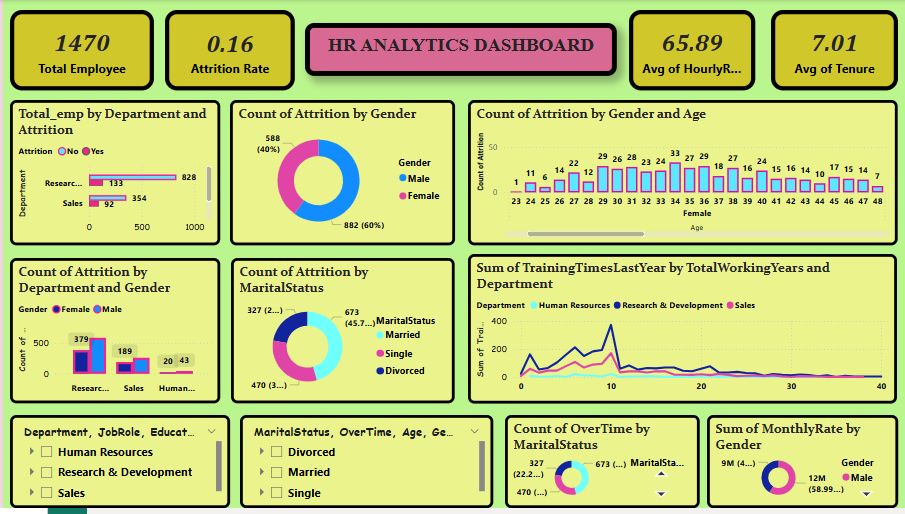

The dashboard page shown, as its layout file describes it:
{"tool":"powerbi","page":{"name":"Page 1","canvas":[1280,720],"ordinal":0},"visuals":[{"type":"textbox","box":[427.7,33.1,442.1,74.9],"z":0},{"type":"card","fields":{"Values":["HR_Anlaytics.Total_emp"]},"box":[10.1,14.4,204.5,113.8],"z":1000},{"type":"card","fields":{"Values":["HR_Anlaytics.Atribute rate(%)"]},"box":[229.8,13.8,184.4,114.2],"z":2000},{"type":"card","fields":{"Values":["HR_Anlaytics.avg_tenure"]},"box":[1088.6,14.4,180,113.8],"z":3000},{"type":"card","fields":{"Values":["Avg(HR_Anlaytics.HourlyRate)"]},"box":[887,14.4,178.6,113.8],"z":4000},{"type":"clusteredBarChart","fields":{"Category":["HR_Anlaytics.Department"],"Y":["HR_Anlaytics.Total_emp"],"Series":["HR_Anlaytics.Attrition"]},"box":[10.1,141.1,298.1,205.9],"z":5000},{"type":"clusteredColumnChart","fields":{"Y":["CountNonNull(HR_Anlaytics.Attrition)"],"Category":["HR_Anlaytics.Department"],"Series":["HR_Anlaytics.Gender"]},"box":[10.1,365.8,298.1,205.9],"z":6000},{"type":"donutChart","fields":{"Y":["CountNonNull(HR_Anlaytics.Attrition)"],"Category":["HR_Anlaytics.Gender"]},"box":[321.7,141.7,318.9,205.5],"z":7000},{"type":"donutChart","fields":{"Y":["CountNonNull(HR_Anlaytics.Attrition)"],"Category":["HR_Anlaytics.MaritalStatus","HR_Anlaytics.Gender"]},"box":[323.1,365.7,317.5,205.5],"z":8000},{"type":"columnChart","fields":{"Category":["HR_Anlaytics.Gender","HR_Anlaytics.Age"],"Y":["CountNonNull(HR_Anlaytics.Attrition)"]},"box":[659.5,141.1,609.1,205.9],"z":9000},{"type":"lineChart","fields":{"Category":["HR_Anlaytics.TotalWorkingYears"],"Y":["Sum(HR_Anlaytics.TrainingTimesLastYear)"],"Series":["HR_Anlaytics.Department"]},"box":[659.5,360,607.7,211.7],"z":10000},{"type":"donutChart","fields":{"Y":["CountNonNull(HR_Anlaytics.OverTime)"],"Category":["HR_Anlaytics.MaritalStatus"]},"box":[711.5,588.2,276.4,131.8],"z":11000},{"type":"donutChart","fields":{"Y":["Sum(HR_Anlaytics.MonthlyRate)"],"Category":["HR_Anlaytics.Gender"]},"box":[997.8,588.2,270.7,131.8],"z":12000},{"type":"slicer","fields":{"Values":["HR_Anlaytics.Department","HR_Anlaytics.JobRole","HR_Anlaytics.Education"]},"box":[9.9,588.2,311.8,131.8],"z":12001},{"type":"slicer","fields":{"Values":["HR_Anlaytics.MaritalStatus","HR_Anlaytics.OverTime","HR_Anlaytics.Age","HR_Anlaytics.Gender"]},"box":[335.9,588.2,358.6,131.8],"z":12002}]}

Visuals, with their boxes in screenshot pixels (x1, y1, x2, y2), scaled from the page's 1280x720 canvas onto the 905x514 screenshot:
textbox: (302,24,615,77)
card - HR_Anlaytics.Total_emp: (7,10,152,92)
card - HR_Anlaytics.Atribute rate(%): (162,10,293,91)
card - HR_Anlaytics.avg_tenure: (770,10,897,92)
card - Avg(HR_Anlaytics.HourlyRate): (627,10,753,92)
clusteredBarChart - HR_Anlaytics.Department x HR_Anlaytics.Total_emp: (7,101,218,248)
clusteredColumnChart - CountNonNull(HR_Anlaytics.Attrition) x HR_Anlaytics.Department: (7,261,218,408)
donutChart - CountNonNull(HR_Anlaytics.Attrition) x HR_Anlaytics.Gender: (227,101,453,248)
donutChart - CountNonNull(HR_Anlaytics.Attrition) x HR_Anlaytics.MaritalStatus: (228,261,453,408)
columnChart - HR_Anlaytics.Gender x HR_Anlaytics.Age: (466,101,897,248)
lineChart - HR_Anlaytics.TotalWorkingYears x Sum(HR_Anlaytics.TrainingTimesLastYear): (466,257,896,408)
donutChart - CountNonNull(HR_Anlaytics.OverTime) x HR_Anlaytics.MaritalStatus: (503,420,698,513)
donutChart - Sum(HR_Anlaytics.MonthlyRate) x HR_Anlaytics.Gender: (705,420,897,513)
slicer - HR_Anlaytics.Department x HR_Anlaytics.JobRole: (7,420,227,513)
slicer - HR_Anlaytics.MaritalStatus x HR_Anlaytics.OverTime: (237,420,491,513)
